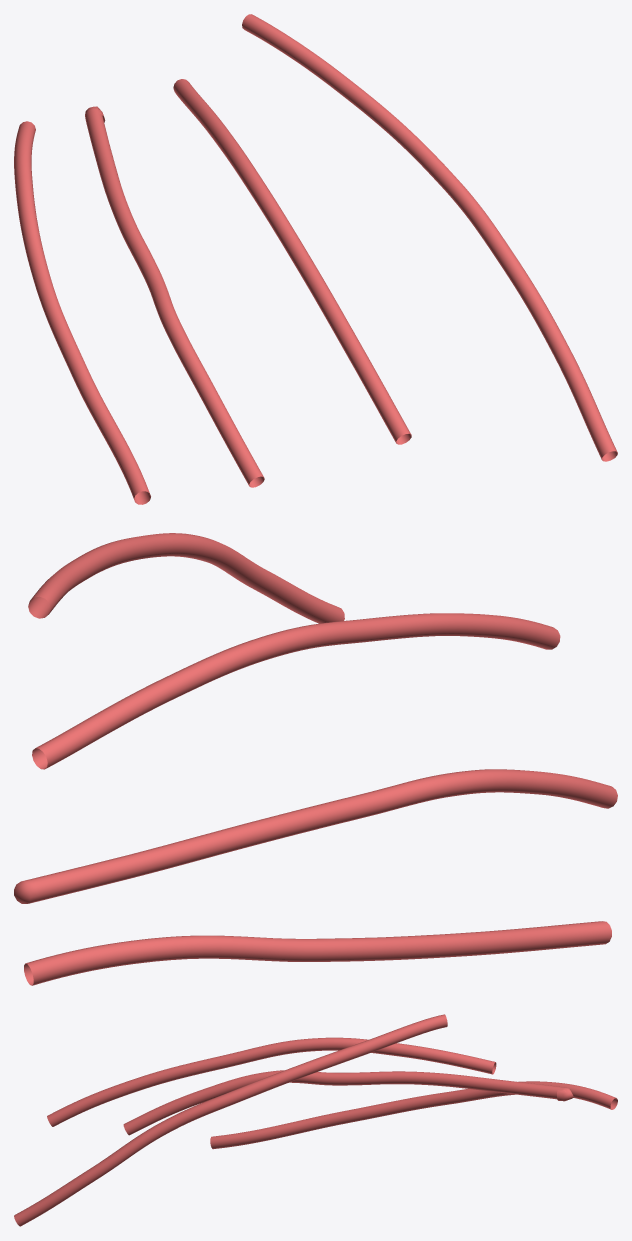
File: Plantar_metatarsal_arteries.r_BezierCurve.216.glb
3 views of the same model, one above another, from view 1: azimuth 30°, elevation 25°; view 2: azimuth 150°, elevation 25°; view 3: azimuth 270°, elevation 25° (orthographic). The views are drawn at different scales.
Parts seen in each view (by area): view 1: Plantar_metatarsal_arteries.r_BezierCurve.216; view 2: Plantar_metatarsal_arteries.r_BezierCurve.216; view 3: Plantar_metatarsal_arteries.r_BezierCurve.216.
Boxes of the visible parts, <box> form: Plantar_metatarsal_arteries.r_BezierCurve.216: <box>14,14,617,504</box>; Plantar_metatarsal_arteries.r_BezierCurve.216: <box>14,533,617,985</box>; Plantar_metatarsal_arteries.r_BezierCurve.216: <box>14,1014,617,1226</box>.
Bounding box in the file's own units: 0.0325 × 0.0273 × 0.0654.
